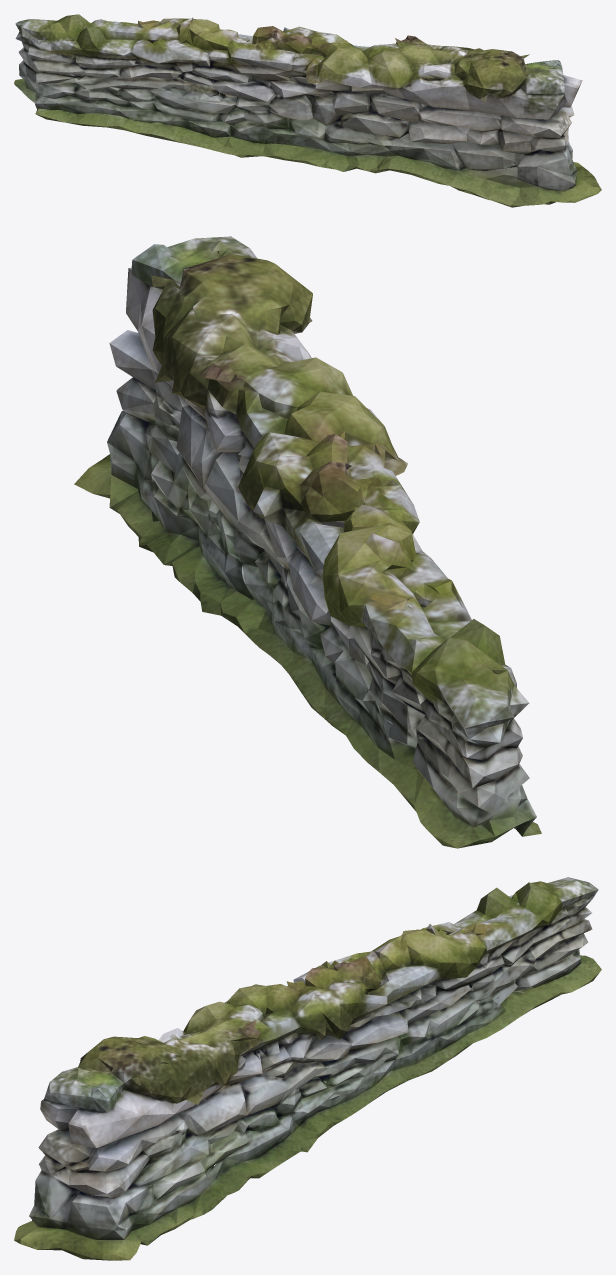
Rendered from wall.obj.
3 views of the same model, one above another, from view 1: azimuth 30°, elevation 25°; view 2: azimuth 150°, elevation 25°; view 3: azimuth 270°, elevation 25° (orthographic). The views are drawn at different scales.
Visible parts, largest first — view 1: wall; view 2: wall; view 3: wall.
Boxes of the visible parts, x1=… form: wall: x1=14, y1=14, x2=601, y2=207; wall: x1=74, y1=236, x2=541, y2=848; wall: x1=14, y1=877, x2=601, y2=1260.
Bounding box in the file's own units: 6.47 × 2.13 × 6.5.
Materials: 1 (1 with a texture image).
